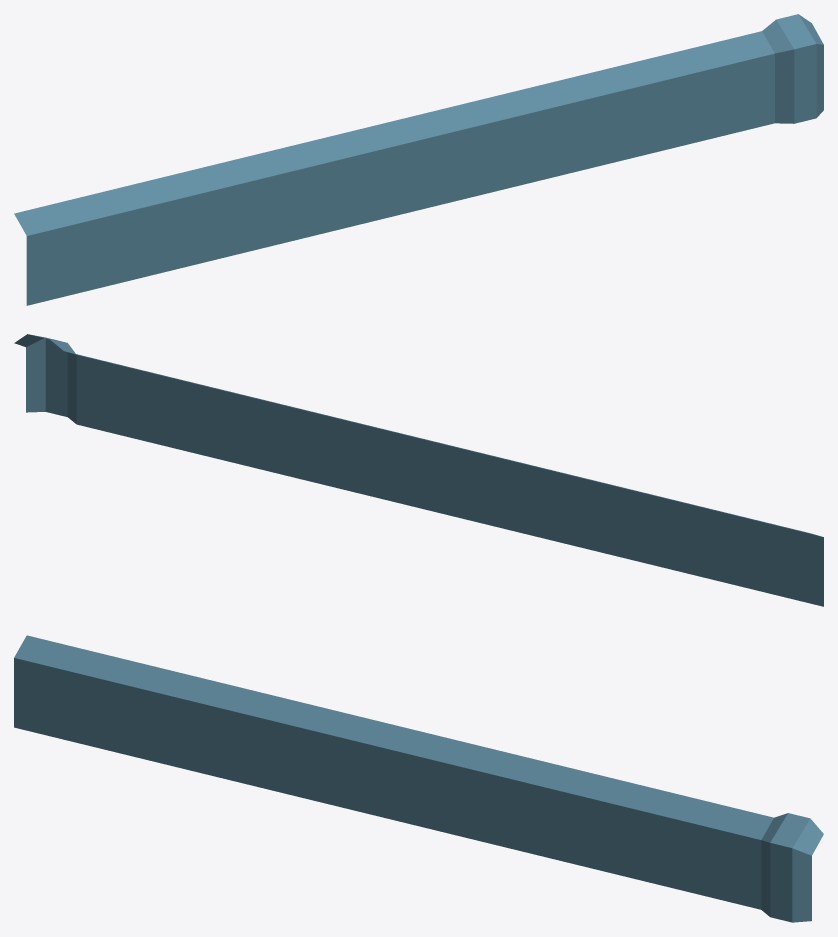
File: panel_02.fbx
3 views of the same model, one above another, from view 1: azimuth 30°, elevation 25°; view 2: azimuth 150°, elevation 25°; view 3: azimuth 330°, elevation 25° (orthographic).
Parts seen in each view (by area): view 1: polySurface1; view 2: polySurface1; view 3: polySurface1.
Part boxes in pixels (box(x1,y1,x2,y2)): polySurface1: box(14, 14, 823, 305); polySurface1: box(14, 334, 823, 606); polySurface1: box(14, 635, 823, 922).
Bounding box in the file's own units: 300 × 32.73 × 11.78.
